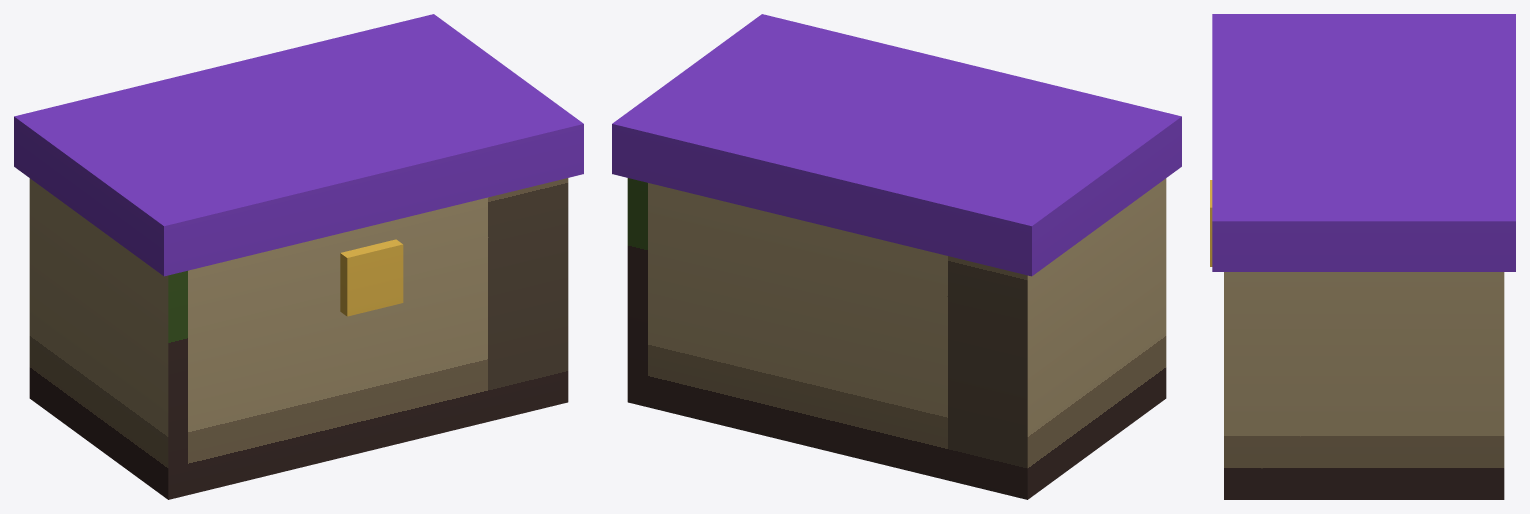
Rendered from reliquary.glb.
The picture shows the model from 3 angles, left to right: view 1: azimuth 30°, elevation 25°; view 2: azimuth 150°, elevation 25°; view 3: azimuth 270°, elevation 25°; orthographic projection.
Parts seen in each view (by area): view 1: reliquary; view 2: reliquary; view 3: reliquary.
Boxes of the visible parts, x1,y1,x2,y2 form: reliquary: (14, 14, 583, 499); reliquary: (612, 14, 1181, 499); reliquary: (1210, 14, 1515, 499).
Bounding box in the file's own units: 1.05 × 0.67 × 0.655.
3 materials, 1 textured.
